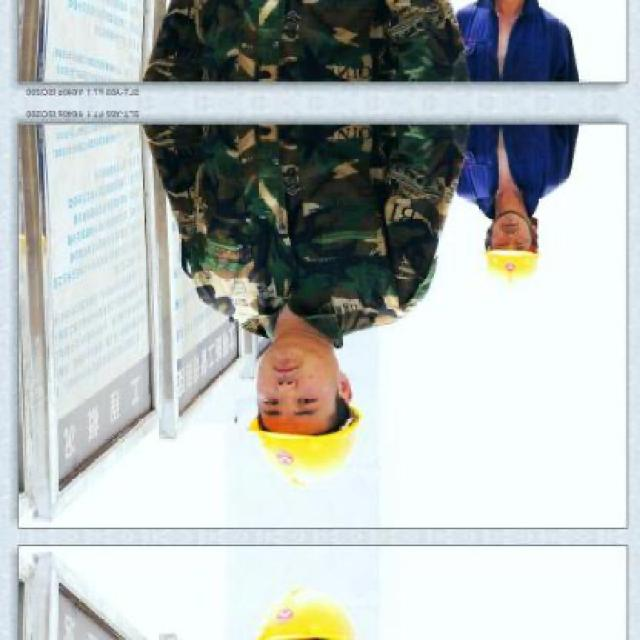con casco: (230, 319, 386, 497), (445, 192, 543, 304)
